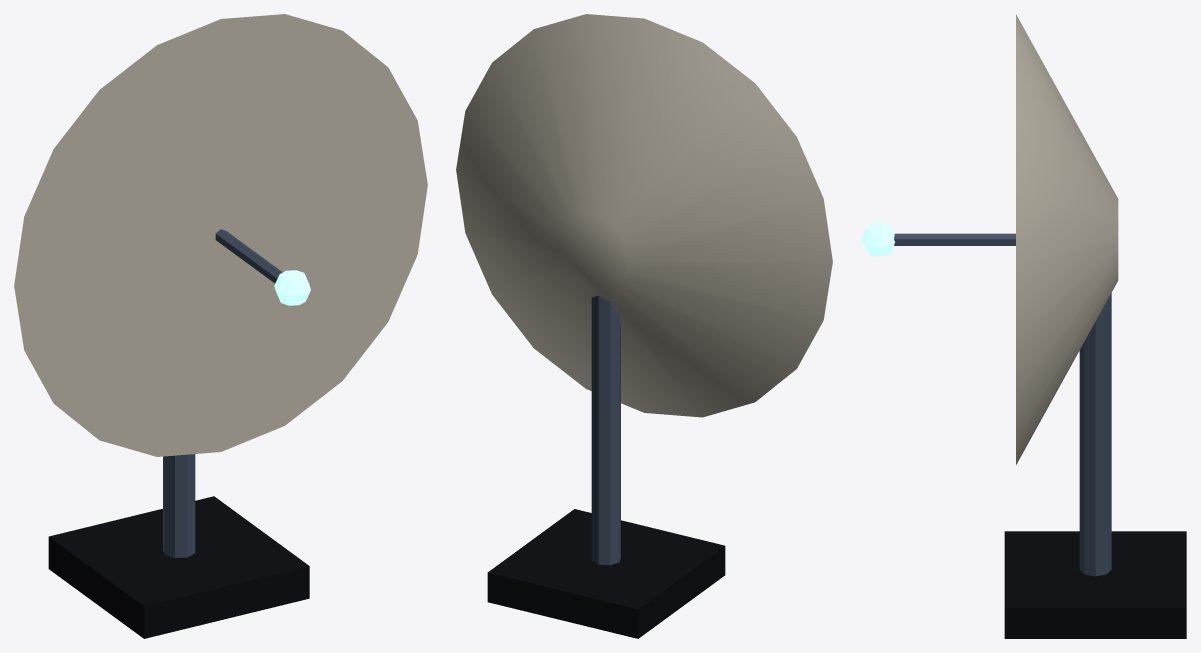
The model's file is roof_dish.glb.
The picture shows the model from 3 angles, left to right: view 1: azimuth 30°, elevation 25°; view 2: azimuth 150°, elevation 25°; view 3: azimuth 270°, elevation 25°; orthographic projection. The views are drawn at different scales.
Visible parts, largest first — view 1: roof_dish; view 2: roof_dish; view 3: roof_dish.
Boxes of the visible parts, box(x1,y1,x2,y2) form: roof_dish: box(14, 14, 427, 638); roof_dish: box(456, 14, 832, 638); roof_dish: box(861, 14, 1186, 638).
Size of the model in its own units: 2 by 2.75 by 1.43.
